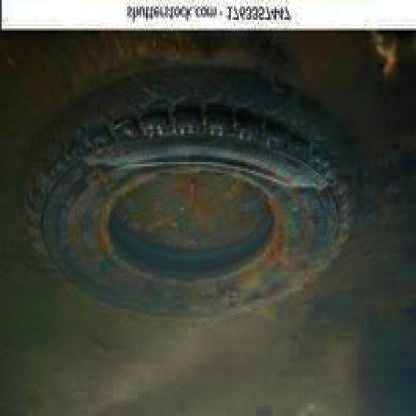tire: (34, 85, 348, 309)
